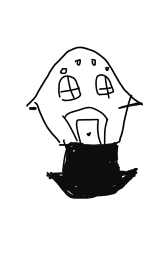closed_window: (53, 76, 85, 102), (92, 71, 117, 99)
door: (59, 108, 114, 150)
shadow: (32, 141, 146, 202)
single_line_roof: (19, 32, 148, 102)
wall: (36, 99, 136, 150)
